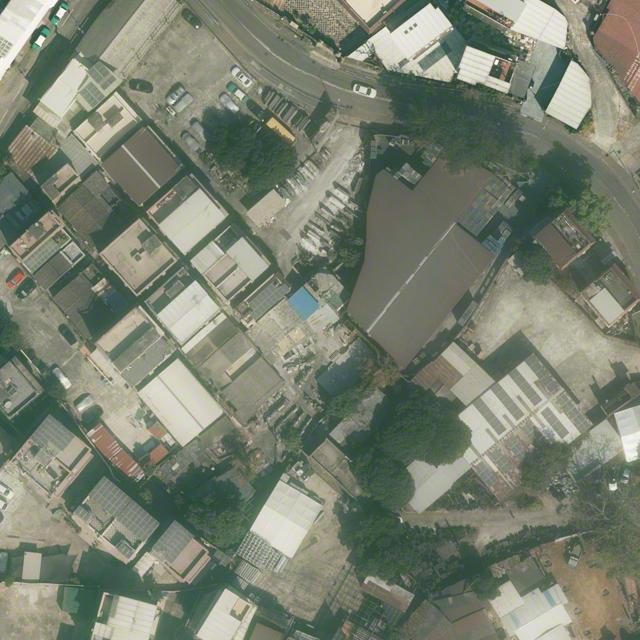panel: (150, 521, 194, 565), (116, 500, 160, 543), (88, 476, 131, 519), (524, 353, 560, 394), (556, 393, 592, 434), (472, 397, 507, 435), (490, 383, 525, 421), (508, 368, 542, 407), (248, 283, 283, 316), (30, 414, 62, 450), (540, 407, 570, 440), (504, 436, 531, 463), (50, 425, 76, 453), (79, 82, 105, 108), (489, 449, 513, 475), (474, 461, 497, 487), (87, 61, 110, 83), (117, 542, 135, 560), (74, 506, 91, 522), (100, 76, 116, 91), (277, 283, 292, 298), (249, 311, 260, 321)
